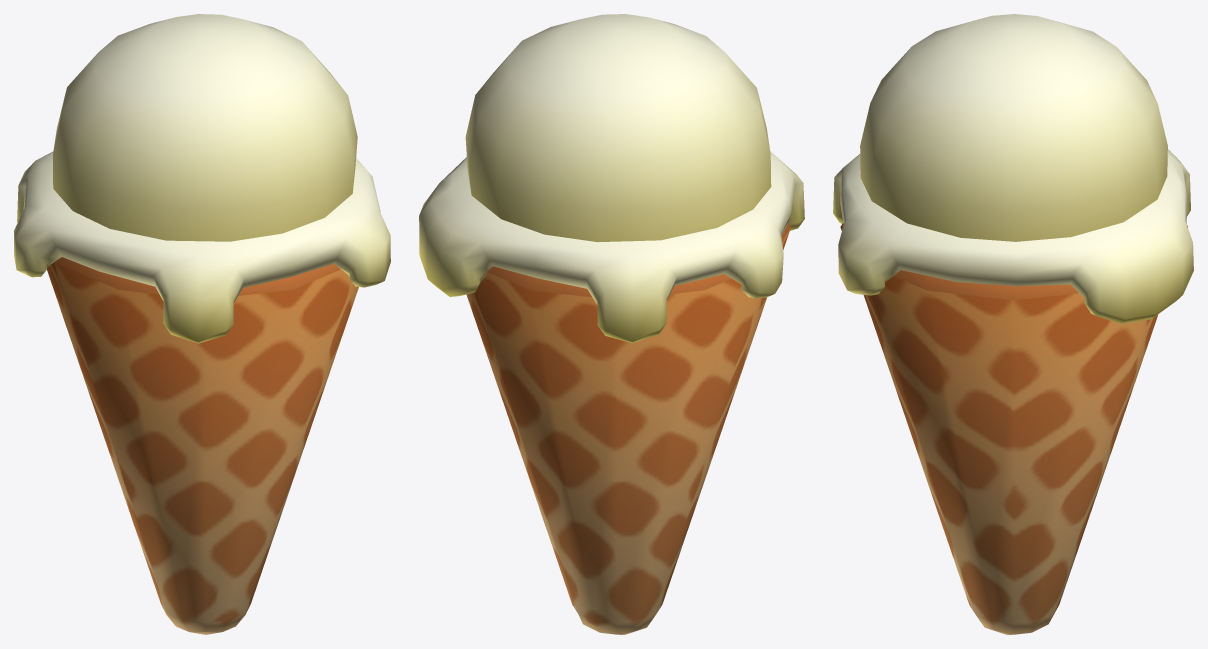
File: m_IceCream02.fbx
3 views of the same model, side by side, from view 1: azimuth 30°, elevation 25°; view 2: azimuth 150°, elevation 25°; view 3: azimuth 270°, elevation 25° (orthographic).
Parts seen in each view (by area): view 1: m_IceCream02; view 2: m_IceCream02; view 3: m_IceCream02.
Boxes of the visible parts, x1,y1,x2,y2 form: m_IceCream02: (14,14,390,634); m_IceCream02: (419,14,804,634); m_IceCream02: (833,14,1193,634).
Size of the model in its own units: 9.64 by 16.94 by 9.25.
